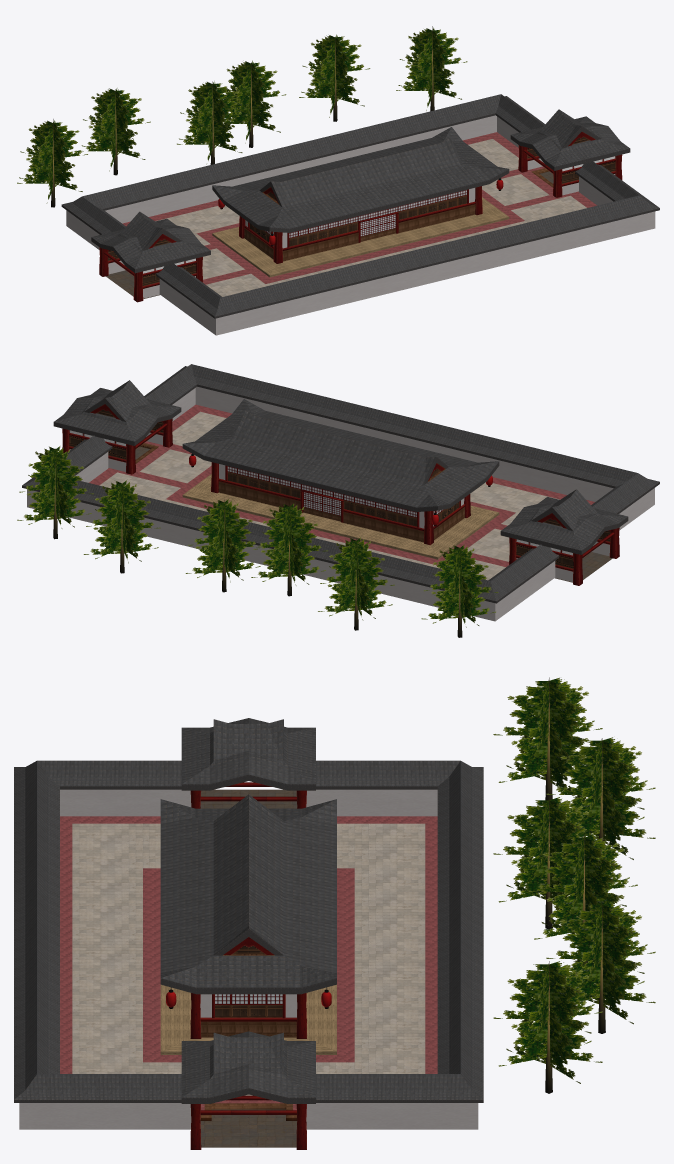
The model's file is level1.obj.
3 views of the same model, one above another, from view 1: azimuth 30°, elevation 25°; view 2: azimuth 150°, elevation 25°; view 3: azimuth 270°, elevation 25° (orthographic). The views are drawn at different scales.
Visible parts, largest first — view 1: Plane.021, Plane.033_Plane.038, Plane.027_Plane.085, Plane.032_Plane.037, Plane.026_Plane.084, Plane.078_Plane.083, Plane.002_Plane.028, Plane.040_Plane.045, Plane.060_Plane.100, Plane.081_Plane.091, Plane.080_Plane.095, Plane.034_Plane.039 (+20 smaller); view 2: Plane.021, Plane.033_Plane.038, Plane.027_Plane.085, Plane.032_Plane.037, Plane.026_Plane.084, Plane.078_Plane.083, Plane.002_Plane.028, Plane.040_Plane.045, Plane.060_Plane.100, Plane.081_Plane.091, Plane.080_Plane.095, Plane.001 (+29 smaller); view 3: Plane.021, Plane.027_Plane.085, Plane.033_Plane.038, Plane.080_Plane.095, Plane.081_Plane.091, Plane.078_Plane.083, Plane.026_Plane.084, Plane.032_Plane.037, Plane.040_Plane.045, Plane.060_Plane.100, Plane.002_Plane.028, Plane.087_Plane.119 (+36 smaller).
Part boxes in pixels (<box>): Plane.021: <box>212,127,508,228</box>; Plane.033_Plane.038: <box>156,161,659,316</box>; Plane.027_Plane.085: <box>62,94,545,234</box>; Plane.032_Plane.037: <box>159,176,655,335</box>; Plane.026_Plane.084: <box>66,115,518,249</box>; Plane.078_Plane.083: <box>122,132,596,284</box>; Plane.002_Plane.028: <box>212,197,509,277</box>; Plane.040_Plane.045: <box>91,211,210,268</box>; Plane.060_Plane.100: <box>511,109,629,166</box>; Plane.081_Plane.091: <box>206,195,586,296</box>; Plane.080_Plane.095: <box>155,139,518,245</box>; Plane.034_Plane.039: <box>156,172,659,318</box>; Plane.021: <box>183,399,498,507</box>; Plane.033_Plane.038: <box>144,364,659,513</box>; Plane.027_Plane.085: <box>22,435,558,601</box>; Plane.032_Plane.037: <box>172,386,654,530</box>; Plane.026_Plane.084: <box>27,452,555,621</box>; Plane.078_Plane.083: <box>89,404,594,566</box>; Plane.002_Plane.028: <box>182,474,499,559</box>; Plane.040_Plane.045: <box>501,489,627,550</box>; Plane.060_Plane.100: <box>54,380,180,441</box>; Plane.081_Plane.091: <box>172,411,560,525</box>; Plane.080_Plane.095: <box>99,472,505,580</box>; Plane.001: <box>182,444,499,511</box>; Plane.021: <box>160,794,336,987</box>; Plane.027_Plane.085: <box>316,760,483,1099</box>; Plane.033_Plane.038: <box>14,760,181,1099</box>; Plane.080_Plane.095: <box>316,823,425,1073</box>; Plane.081_Plane.091: <box>72,823,181,1073</box>; Plane.078_Plane.083: <box>60,816,437,1110</box>; Plane.026_Plane.084: <box>306,789,478,1129</box>; Plane.032_Plane.037: <box>19,789,191,1129</box>; Plane.040_Plane.045: <box>181,718,315,784</box>; Plane.060_Plane.100: <box>181,1031,315,1097</box>; Plane.002_Plane.028: <box>160,984,336,1054</box>; Plane.087_Plane.119: <box>200,1109,296,1147</box>.
Size of the model in its own units: 49.6 by 8.7 by 36.58.
Materials: 17 (16 with a texture image).
